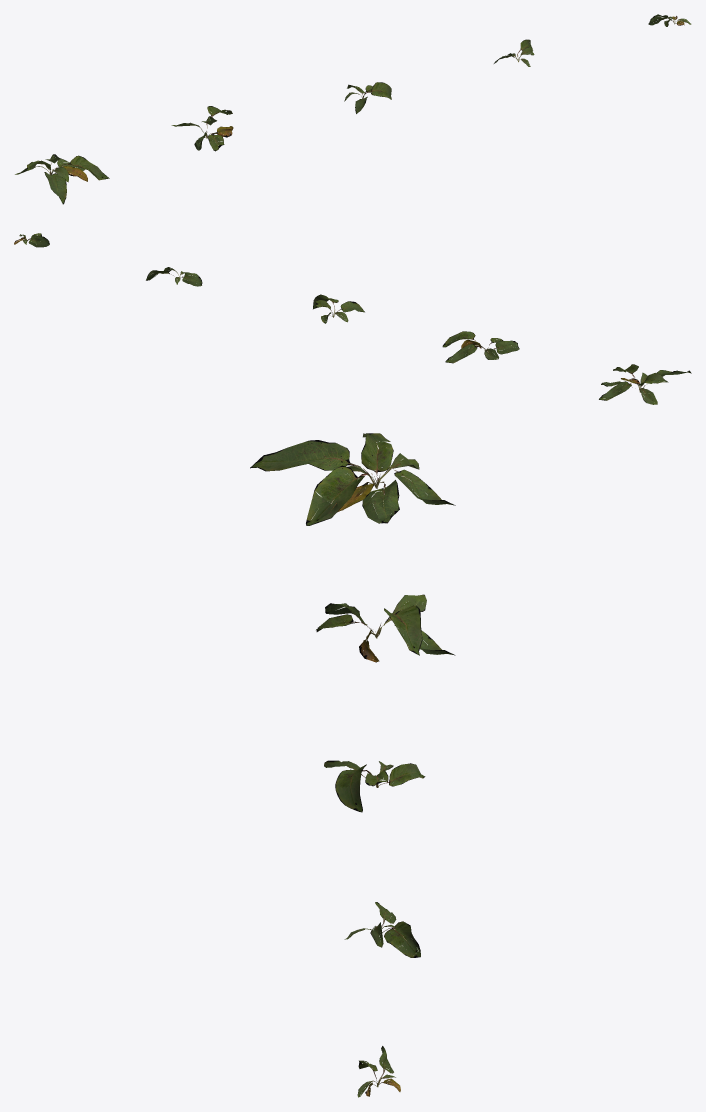
Rendered from weed_plant_02_audition.glb.
3 views of the same model, one above another, from view 1: azimuth 30°, elevation 25°; view 2: azimuth 150°, elevation 25°; view 3: azimuth 270°, elevation 25° (orthographic). The views are drawn at different scales.
Parts seen in each view (by area): view 1: weed_plant_02_a_LOD0, weed_plant_02_b_LOD0, weed_plant_02_c_LOD0, weed_plant_02_d_LOD0; view 2: weed_plant_02_a_LOD0, weed_plant_02_b_LOD0, weed_plant_02_c_LOD0, weed_plant_02_d_LOD0, weed_plant_02_e_LOD0; view 3: weed_plant_02_a_LOD0, weed_plant_02_b_LOD0, weed_plant_02_c_LOD0, weed_plant_02_d_LOD0.
Boxes of the visible parts, box(x1,y1,x2,y2) form: weed_plant_02_a_LOD0: box(15, 154, 109, 204); weed_plant_02_b_LOD0: box(171, 106, 233, 151); weed_plant_02_c_LOD0: box(344, 82, 391, 113); weed_plant_02_d_LOD0: box(494, 39, 534, 66); weed_plant_02_a_LOD0: box(599, 364, 691, 404); weed_plant_02_b_LOD0: box(442, 331, 519, 363); weed_plant_02_c_LOD0: box(313, 294, 364, 323); weed_plant_02_d_LOD0: box(146, 267, 202, 286); weed_plant_02_e_LOD0: box(14, 233, 49, 247); weed_plant_02_a_LOD0: box(250, 433, 455, 525); weed_plant_02_b_LOD0: box(316, 594, 455, 662); weed_plant_02_c_LOD0: box(324, 760, 425, 812); weed_plant_02_d_LOD0: box(344, 902, 420, 957).
Bounding box in the file's own units: 2.13 × 0.0751 × 0.2907.
Materials: 2 (2 with a texture image).
